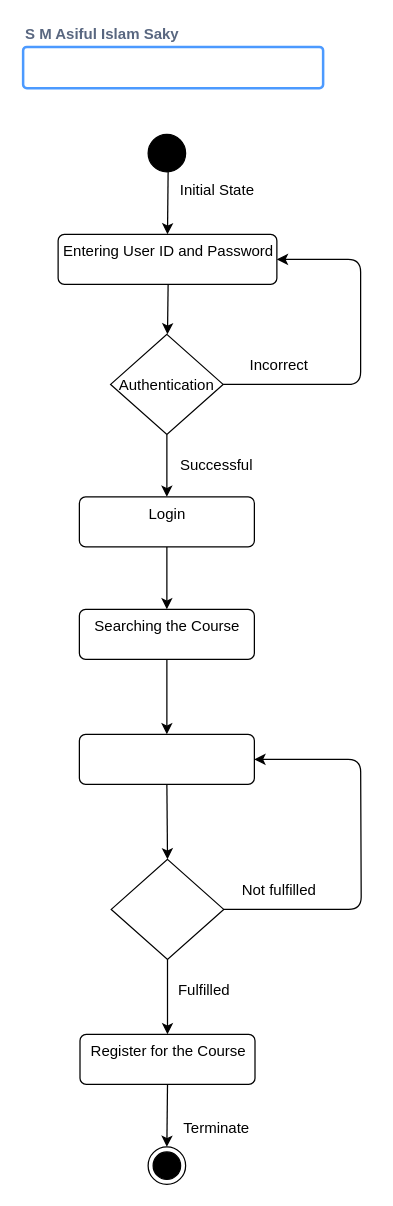
Image size: 393x1206. Some labels were removed from this diagram. The centre of each missing label's shape, as x and y in pixels:
"Requirements" goes at (167,908).
"Selecting the Course" goes at (166,758).
"Student Course Registration System" goes at (172,67).
